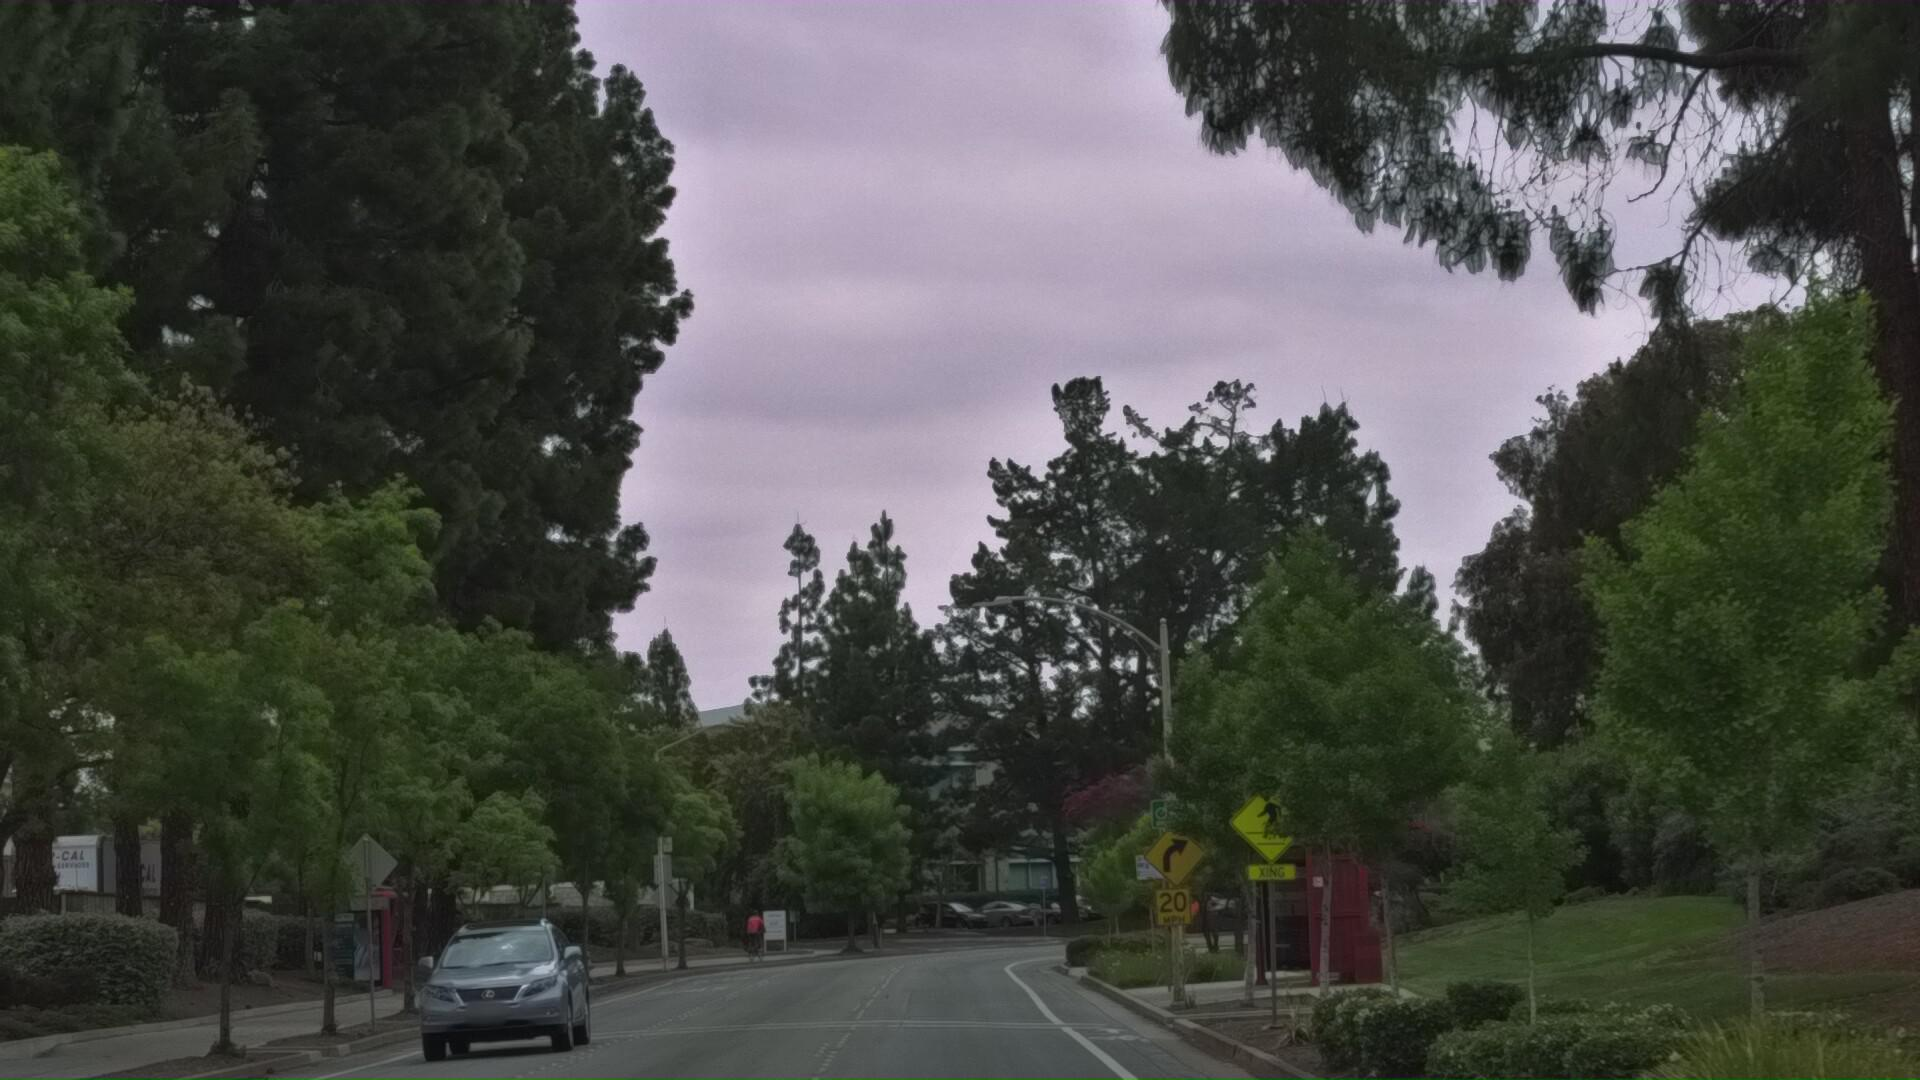car: (388, 1004, 600, 1080)
